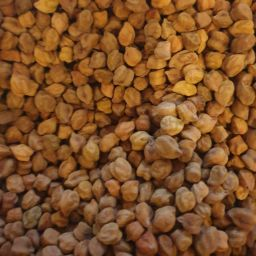Black Chickpeas: (1, 2, 256, 256), (21, 42, 243, 163)
